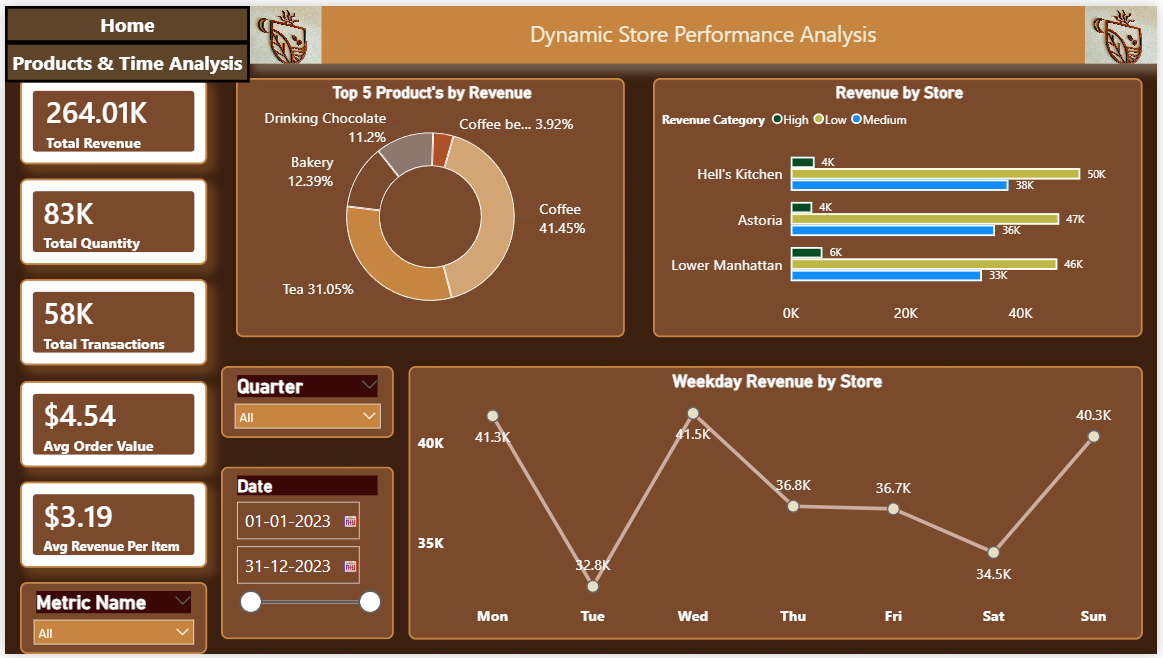

This screenshot's page, from the dashboard's own definition file:
{"tool":"powerbi","page":{"name":"Store Performance","canvas":[1280,720],"ordinal":1},"visuals":[{"type":"cardVisual","fields":{"Data":["KPI_Measures.Total Revenue"]},"box":[16,80,208,96],"z":0},{"type":"cardVisual","fields":{"Data":["KPI_Measures.Total Quantity"]},"box":[16,192,208,96],"z":1000},{"type":"cardVisual","fields":{"Data":["KPI_Measures.Avg Order Value"]},"box":[16,416,208,96],"z":2000},{"type":"cardVisual","fields":{"Data":["KPI_Measures.Total Transactions"]},"box":[16,304,208,96],"z":3000},{"type":"clusteredBarChart","fields":{"Category":["Store_Master.Store Location"],"Y":["other_Measures.Dynamic KPI"],"Series":["Coffee_shop_sales.Revenue Category"]},"box":[720,80,544,288],"z":4000},{"type":"lineChart","fields":{"Category":["Date_Table.Year Hierarchy.Day Name"],"Y":["other_Measures.Dynamic KPI"]},"box":[448,400,816,304],"z":5000},{"type":"donutChart","fields":{"Category":["Coffee_shop_sales.Product category"],"Y":["other_Measures.Dynamic KPI"]},"box":[256,80,432,288],"z":6000},{"type":"textbox","box":[272,0,1008,64],"z":7000},{"type":"slicer","fields":{"Values":["Date_Table.Quarter"]},"box":[240,400,192,80],"z":8000},{"type":"slicer","fields":{"Values":["Metrics.Metric Name"]},"box":[16,640,208,80],"z":9000},{"type":"image","box":[272,0,80,64],"z":10000},{"type":"image","box":[1200,0,80,64],"z":11000},{"type":"cardVisual","fields":{"Data":["KPI_Measures.Avg Revenue Per Item"]},"box":[16,528,208,96],"z":13000},{"type":"actionButton","box":[0,0,272,41],"z":14000},{"type":"actionButton","box":[0,40,272,45],"z":15000},{"type":"slicer","fields":{"Values":["Date_Table.Date"]},"box":[240,512,192,192],"z":16000}]}

Visuals, with their boxes in screenshot pixels (x1, y1, x2, y2), scaled from the page's 1280x720 canvas onto the 1163x658 screenshot:
cardVisual - KPI_Measures.Total Revenue: [15,73,204,161]
cardVisual - KPI_Measures.Total Quantity: [15,175,204,263]
cardVisual - KPI_Measures.Avg Order Value: [15,380,204,468]
cardVisual - KPI_Measures.Total Transactions: [15,278,204,366]
clusteredBarChart - Store_Master.Store Location x other_Measures.Dynamic KPI: [654,73,1148,336]
lineChart - Date_Table.Year Hierarchy.Day Name x other_Measures.Dynamic KPI: [407,366,1148,643]
donutChart - Coffee_shop_sales.Product category x other_Measures.Dynamic KPI: [233,73,625,336]
textbox: [247,0,1162,58]
slicer - Date_Table.Quarter: [218,366,393,439]
slicer - Metrics.Metric Name: [15,585,204,657]
image: [247,0,320,58]
image: [1090,0,1162,58]
cardVisual - KPI_Measures.Avg Revenue Per Item: [15,483,204,570]
actionButton: [0,0,247,37]
actionButton: [0,37,247,78]
slicer - Date_Table.Date: [218,468,393,643]
